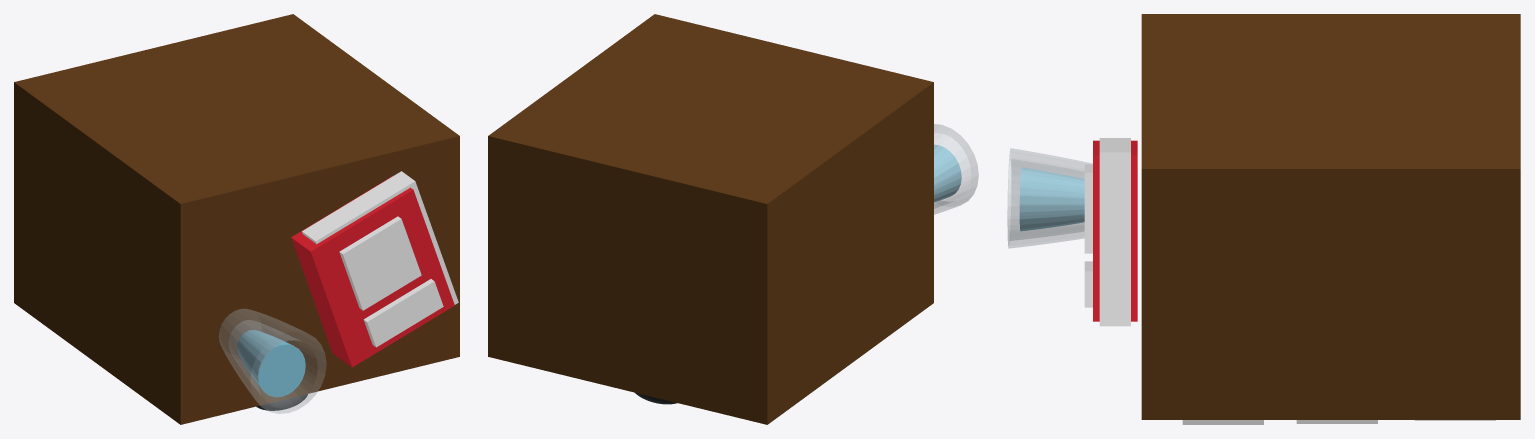
File: tinker.obj
3 views of the same model, side by side, from view 1: azimuth 30°, elevation 25°; view 2: azimuth 150°, elevation 25°; view 3: azimuth 270°, elevation 25° (orthographic). The views are drawn at different scales.
Visible parts, largest first — view 1: group_0_6306067, group_0_15277357, group_0_16448250, group_0_-1027618868, group_0_8768998; view 2: group_0_6306067, group_0_-1027618868, group_0_8768998; view 3: group_0_6306067, group_0_16448250, group_0_-1027618868, group_0_8768998, group_0_15277357.
Part boxes in pixels (x1,y1,x2,y2): group_0_6306067: (14,14,459,424); group_0_15277357: (291,175,454,367); group_0_16448250: (302,171,458,347); group_0_-1027618868: (219,309,326,413); group_0_8768998: (237,330,305,397); group_0_6306067: (488,14,933,424); group_0_-1027618868: (934,124,978,214); group_0_8768998: (934,144,961,202); group_0_6306067: (1141,14,1520,419); group_0_16448250: (1084,138,1495,424); group_0_-1027618868: (1007,148,1092,248); group_0_8768998: (1019,167,1084,231); group_0_15277357: (1093,140,1137,321).
Size of the model in its own units: 90 by 81 by 126.
